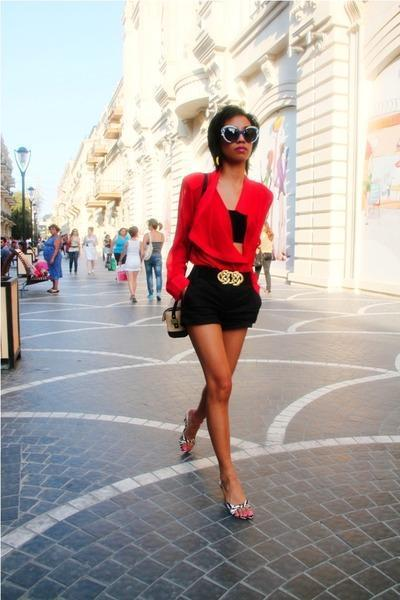shirt: (166, 172, 272, 292)
shorts: (168, 265, 261, 347)
skirt: (229, 210, 248, 242)
